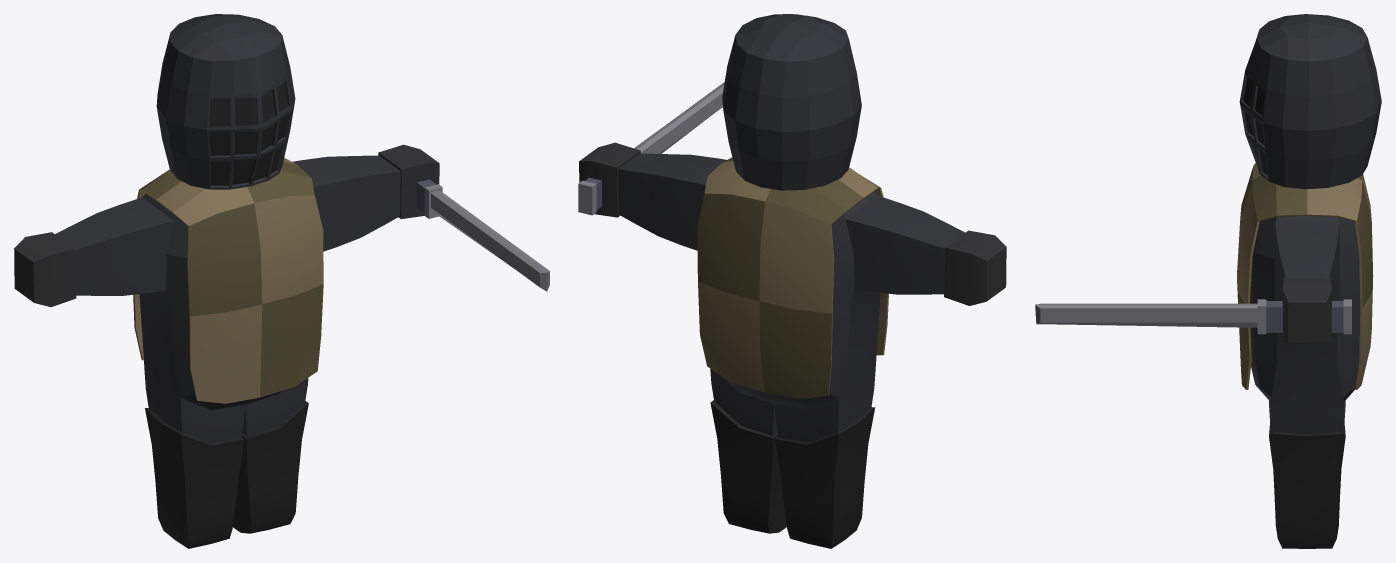
The model's file is Knight.fbx.
3 views of the same model, side by side, from view 1: azimuth 30°, elevation 25°; view 2: azimuth 150°, elevation 25°; view 3: azimuth 270°, elevation 25° (orthographic).
Visible parts, largest first — view 1: Cube.001, Cube.002, Cube, Cube.003; view 2: Cube.001, Cube.002, Cube, Cube.003; view 3: Cube.001, Cube, Cube.002, Cube.003.
Boxes of the visible parts, x1=… form: Cube.001: x1=14, y1=144, x2=439, y2=548; Cube.002: x1=133, y1=158, x2=323, y2=403; Cube: x1=156, y1=14, x2=295, y2=189; Cube.003: x1=416, y1=179, x2=549, y2=291; Cube.001: x1=579, y1=142, x2=1006, y2=548; Cube.002: x1=697, y1=157, x2=888, y2=398; Cube: x1=722, y1=14, x2=861, y2=190; Cube.003: x1=578, y1=82, x2=724, y2=215; Cube.001: x1=1250, y1=216, x2=1360, y2=548; Cube: x1=1239, y1=14, x2=1381, y2=189; Cube.002: x1=1237, y1=163, x2=1373, y2=389; Cube.003: x1=1035, y1=299, x2=1351, y2=334.
Size of the model in its own units: 250 by 299 by 186.
